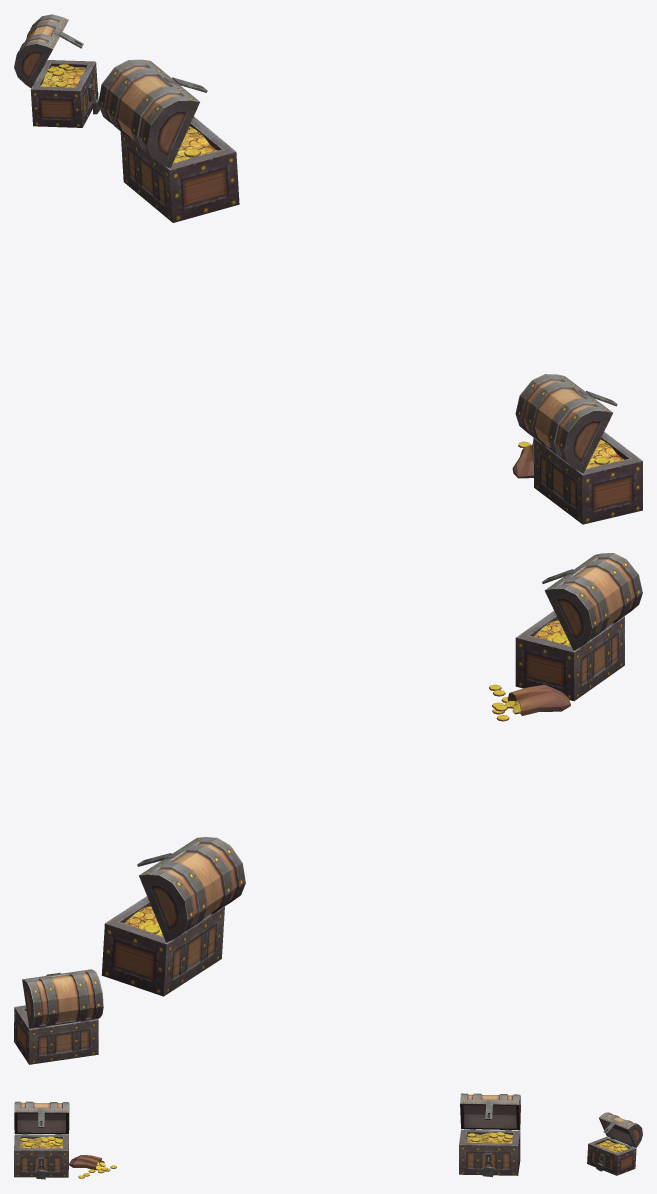
File: Area_12_7.fbx
The picture shows the model from 3 angles, top to bottom: view 1: azimuth 30°, elevation 25°; view 2: azimuth 150°, elevation 25°; view 3: azimuth 270°, elevation 25°; orthographic projection. The views are drawn at different scales.
Parts seen in each view (by area): view 1: Area_12_7; view 2: Area_12_7; view 3: Area_12_7.
Part boxes in pixels (box(x1,y1,x2,y2)): Area_12_7: box(14, 14, 642, 524); Area_12_7: box(14, 553, 642, 1064); Area_12_7: box(14, 1093, 642, 1179).
Bounding box in the file's own units: 256 × 295 × 2475.
